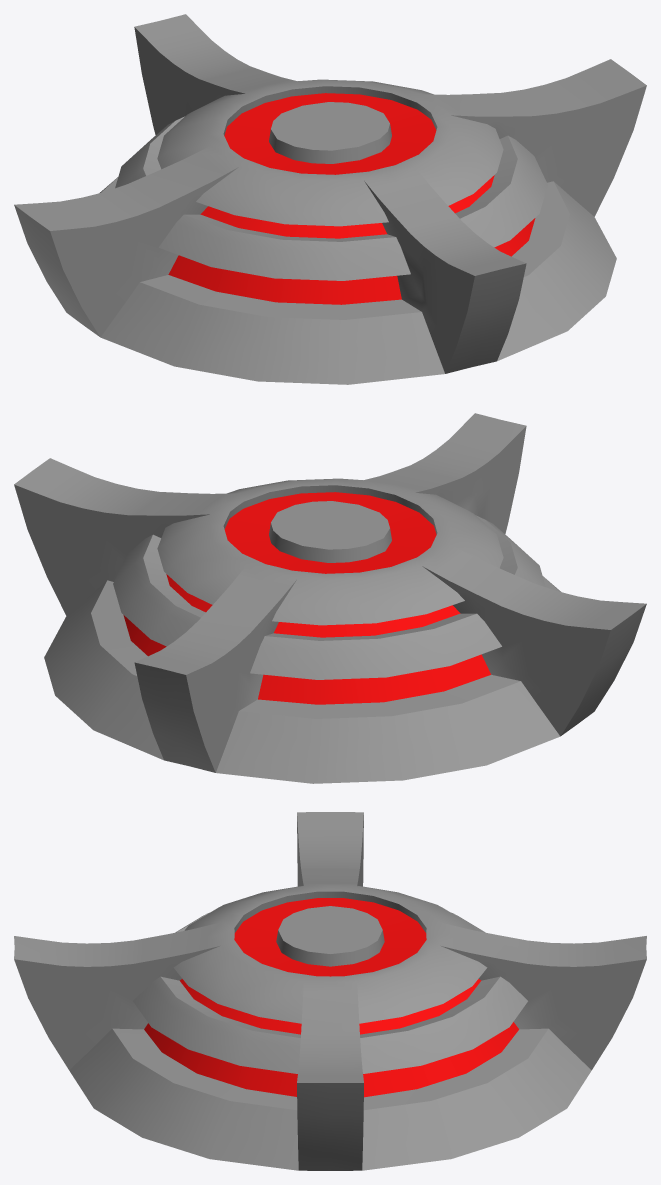
The model's file is Mine_Design2.FBX.
The picture shows the model from 3 angles, top to bottom: view 1: azimuth 30°, elevation 25°; view 2: azimuth 150°, elevation 25°; view 3: azimuth 270°, elevation 25°; orthographic projection. The views are drawn at different scales.
Parts seen in each view (by area): view 1: Mine_Metal, Mine_Energy; view 2: Mine_Metal, Mine_Energy; view 3: Mine_Metal, Mine_Energy.
Part boxes in pixels (x1,y1,x2,y2): Mine_Metal: (14,14,646,384); Mine_Energy: (168,93,535,304); Mine_Metal: (14,413,646,783); Mine_Energy: (123,492,490,704); Mine_Metal: (14,812,646,1170); Mine_Energy: (144,898,518,1097).
Bounding box in the file's own units: 93.92 × 92.75 × 20.81.
